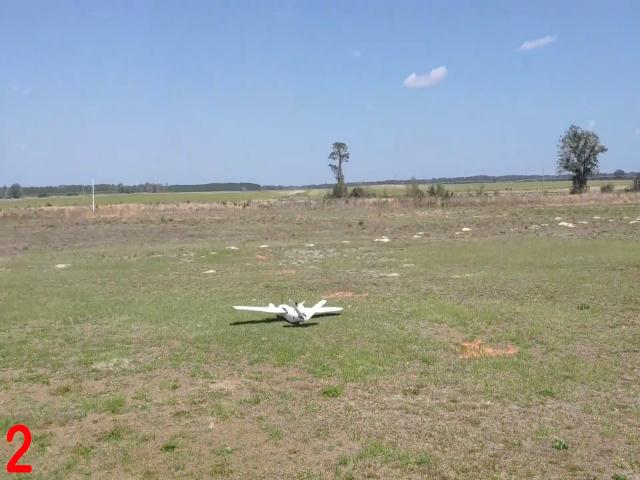plane: (232, 298, 343, 326)
